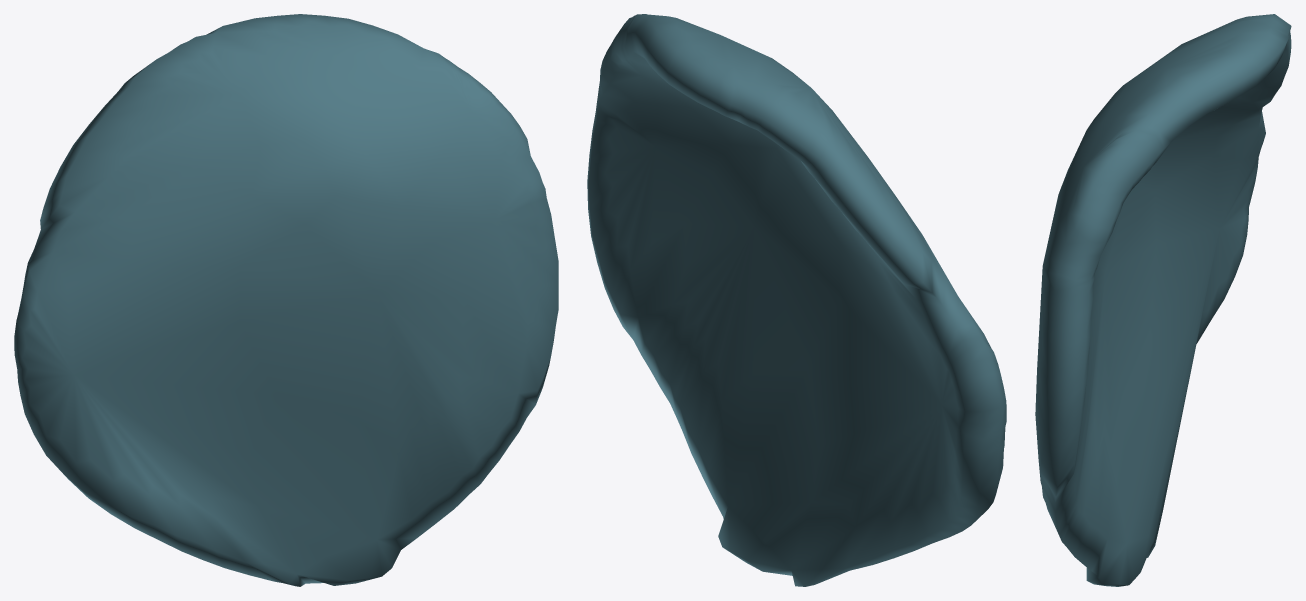
File: Flexor_digiti_minimi_5th_proximal_phalanx_base_left.glb
3 renders of one model, left to right at view 1: azimuth 30°, elevation 25°; view 2: azimuth 150°, elevation 25°; view 3: azimuth 270°, elevation 25°, orthographic. The views are drawn at different scales.
Parts seen in each view (by area): view 1: Flexor_digiti_minimi_on_base_of_5th_proximal_phalanx.l_Gener; view 2: Flexor_digiti_minimi_on_base_of_5th_proximal_phalanx.l_Gener; view 3: Flexor_digiti_minimi_on_base_of_5th_proximal_phalanx.l_Gener.
Part boxes in pixels (box(x1,y1,x2,y2)): Flexor_digiti_minimi_on_base_of_5th_proximal_phalanx.l_Gener: box(14, 14, 558, 586); Flexor_digiti_minimi_on_base_of_5th_proximal_phalanx.l_Gener: box(587, 14, 1006, 586); Flexor_digiti_minimi_on_base_of_5th_proximal_phalanx.l_Gener: box(1035, 14, 1291, 586).
Size of the model in its own units: 0.00545 by 0.00583 by 0.00253.
